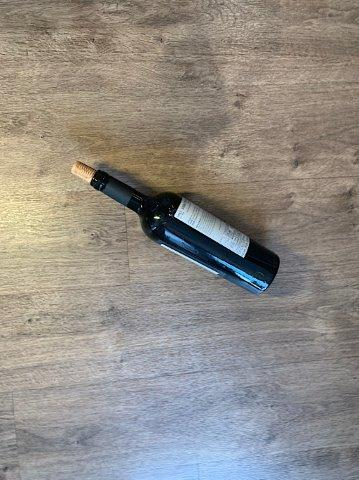botolkaca: (72, 162, 281, 293)
